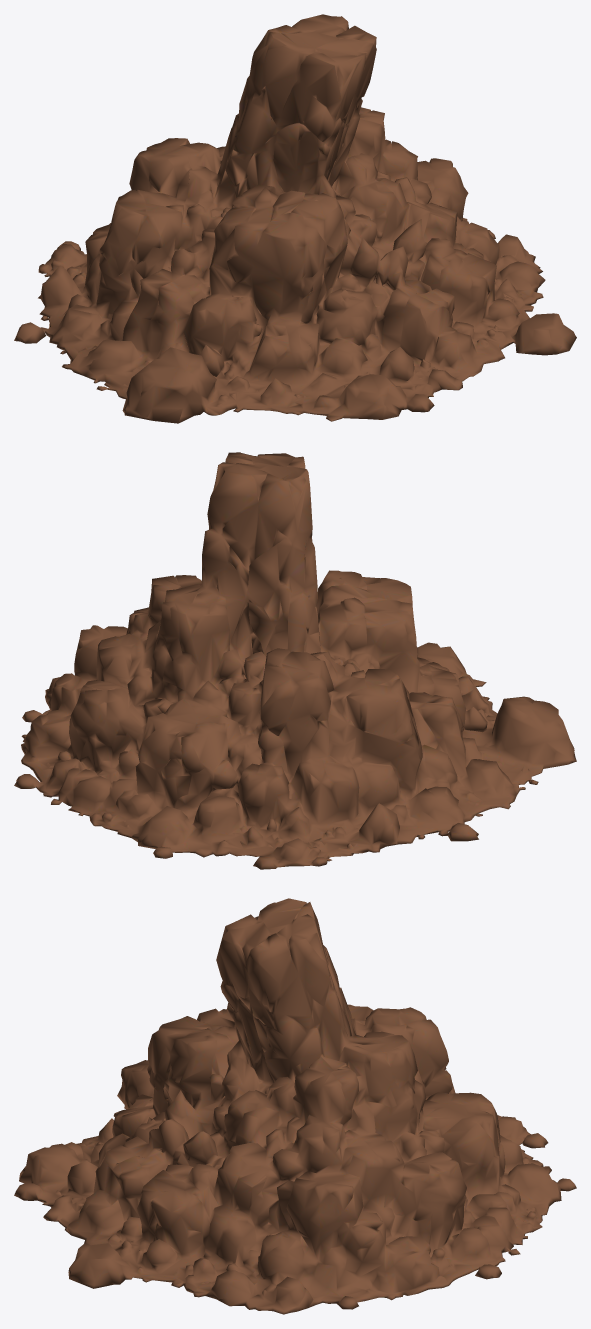
File: pila_de_mineral_rocoso.glb
3 renders of one model, top to bottom at view 1: azimuth 30°, elevation 25°; view 2: azimuth 150°, elevation 25°; view 3: azimuth 270°, elevation 25°, orthographic. The views are drawn at different scales.
Visible parts, largest first — view 1: pila_de_mineral_rocoso; view 2: pila_de_mineral_rocoso; view 3: pila_de_mineral_rocoso.
Boxes of the visible parts, <box> form: pila_de_mineral_rocoso: <box>14,14,576,423</box>; pila_de_mineral_rocoso: <box>14,452,576,869</box>; pila_de_mineral_rocoso: <box>14,898,576,1314</box>.
Size of what is drawn, in the model's own units: 2.66 by 1.5 by 2.66.
Materials: 1 (1 with a texture image).
